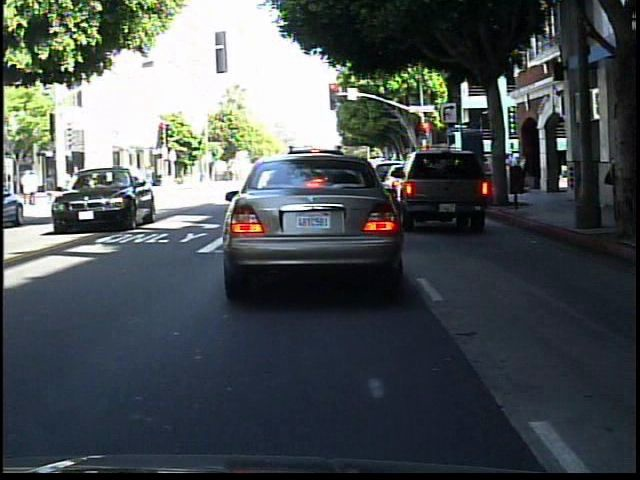person: (590, 141, 612, 217), (618, 141, 639, 219), (71, 162, 88, 197), (46, 168, 60, 202), (70, 173, 71, 198)
